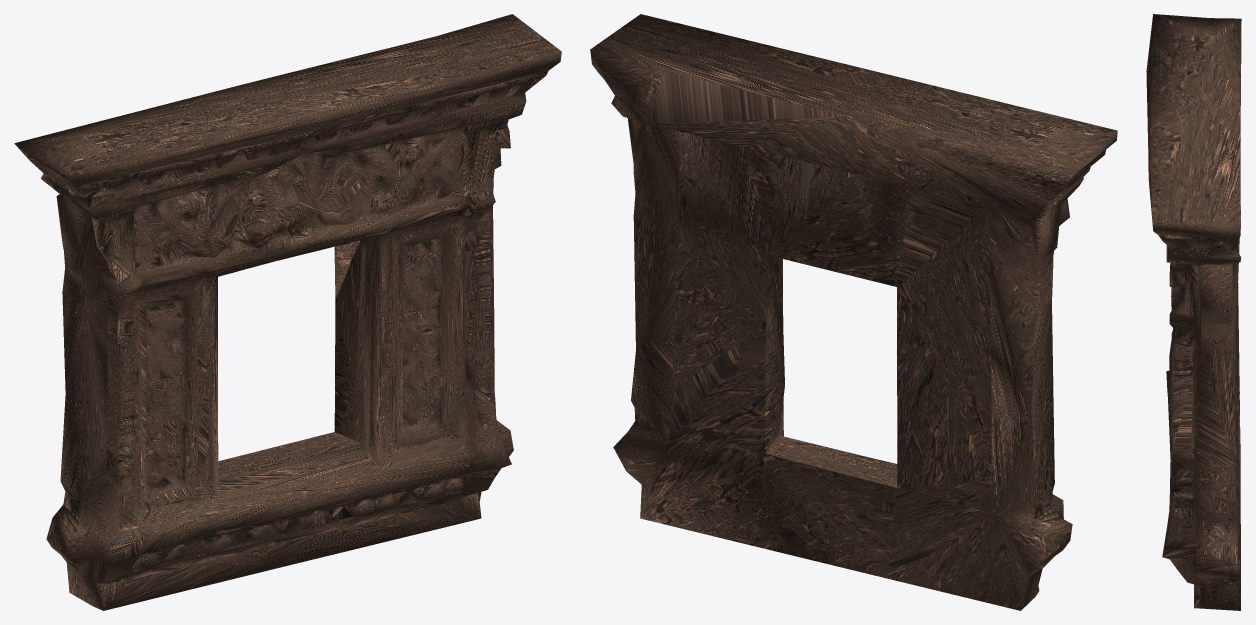
Rendered from window.glb.
3 views of the same model, side by side, from view 1: azimuth 30°, elevation 25°; view 2: azimuth 150°, elevation 25°; view 3: azimuth 270°, elevation 25° (orthographic). The views are drawn at different scales.
Parts seen in each view (by area): view 1: window; view 2: window; view 3: window.
Part boxes in pixels (x1,y1,x2,y2): window: [14, 14, 561, 610]; window: [590, 14, 1117, 610]; window: [1146, 14, 1241, 610].
Size of the model in its own units: 1.27 by 1.15 by 0.2417.
1 material, 1 textured.
